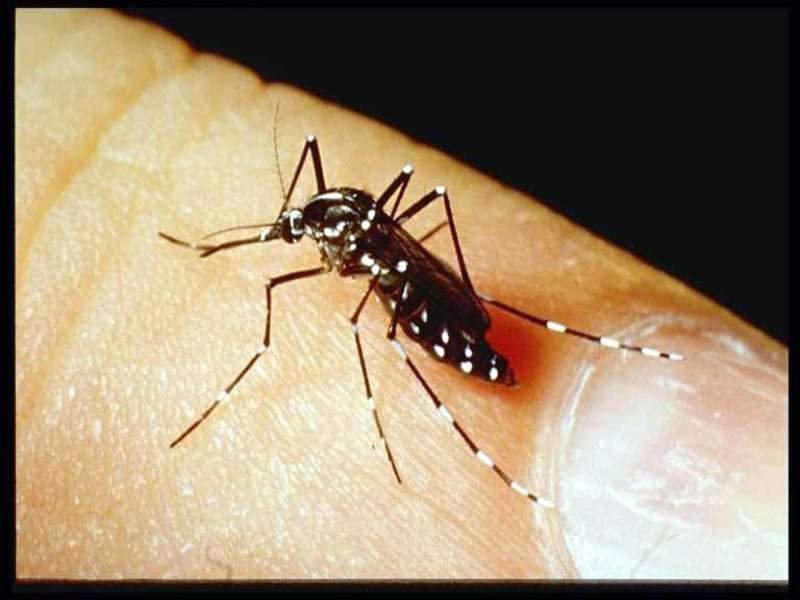dengue_mosquito: (197, 134, 543, 464)
